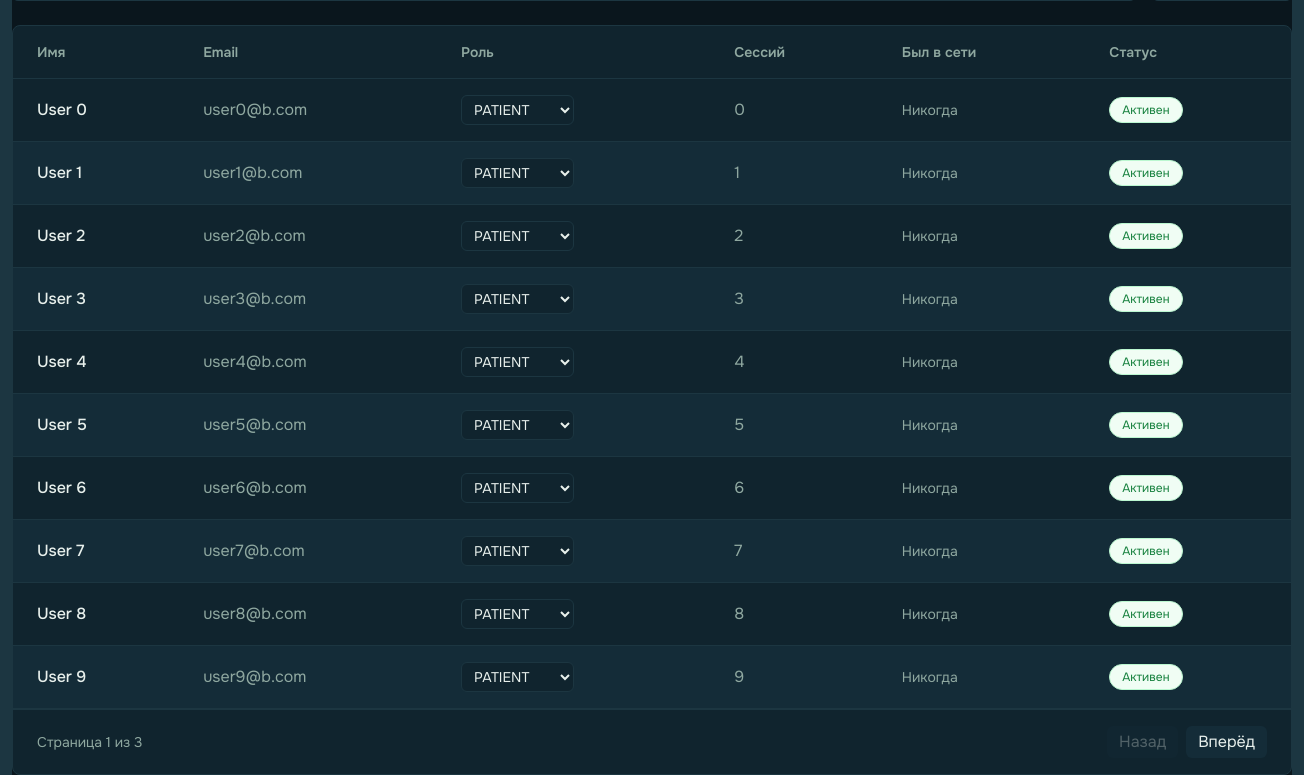
Test: AdminUsersPage (#150) › пагинация: 25 юзеров → 3 страницы, «Вперёд» листает
(page scrolled)
Expected: the text "User 0" is shown, [13,78,179,142]
Expected: the text "Страница 1 из 3" is shown, [37,732,142,752]
What coordinates should you click on to do the following:
click the button "Вперёд"
I would click on:
 (1227, 742)
Its box is [1186,726,1267,758].
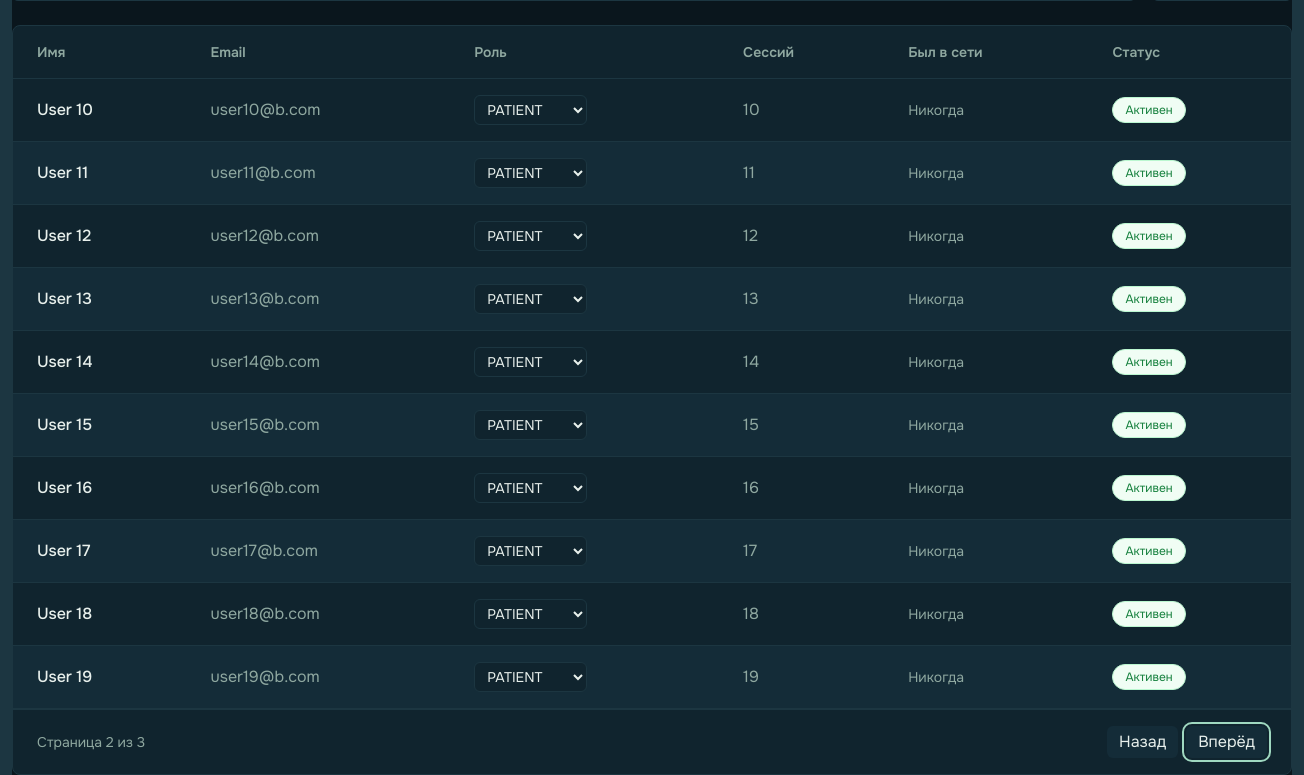
Result: the text "Страница 2 из 3" is shown at [37,732,145,752]
Result: the text "User 10" is shown at [13,78,186,142]
Result: the text "User 0" is gone
